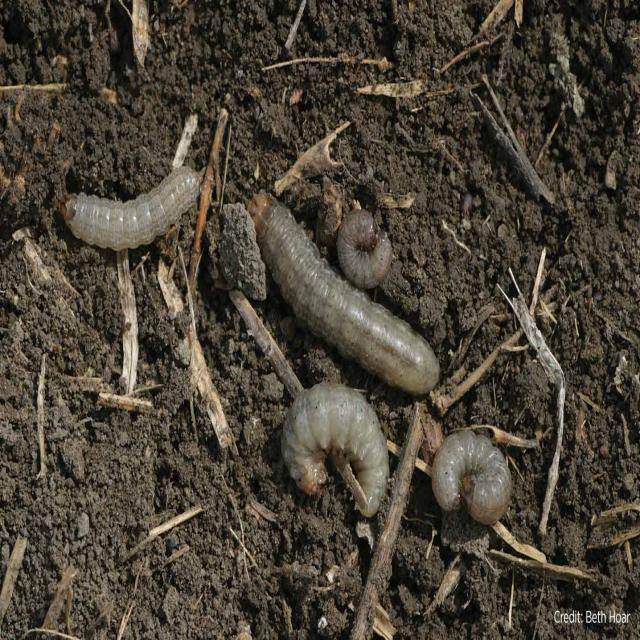worm: (247, 192, 442, 398), (61, 164, 202, 397), (281, 383, 390, 520), (432, 429, 513, 528), (336, 199, 395, 292)
